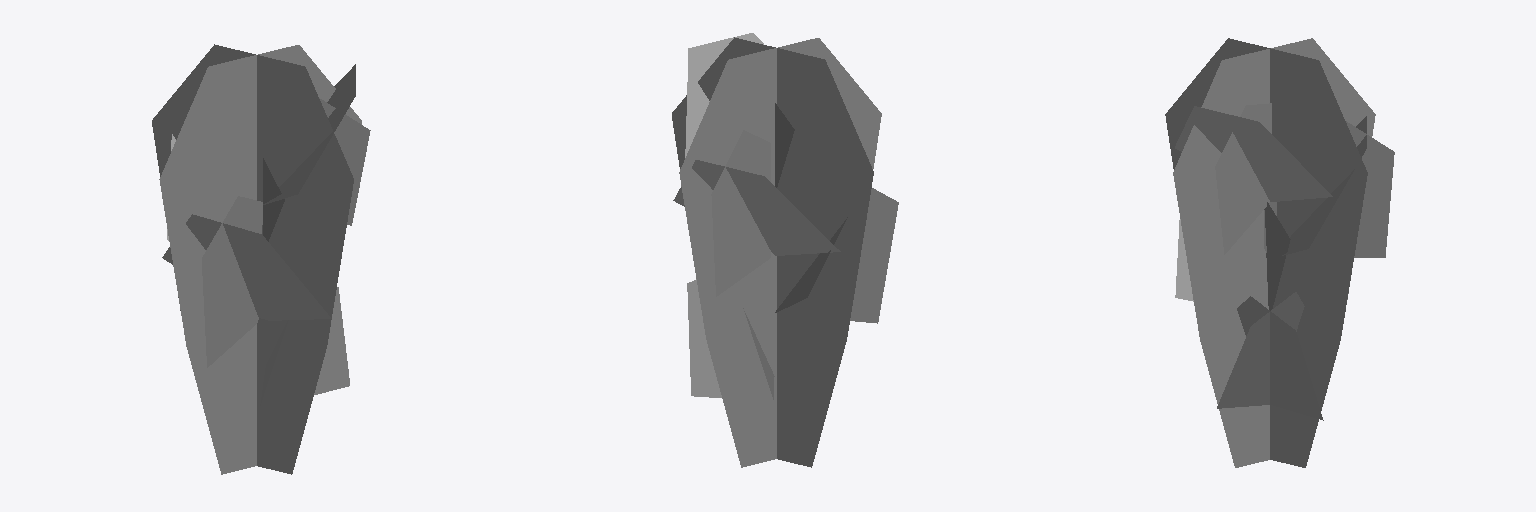
Rendered from tiny_weed_03_01.obj.
3 renders of one model, left to right at view 1: azimuth 30°, elevation 25°; view 2: azimuth 150°, elevation 25°; view 3: azimuth 270°, elevation 25°, orthographic.
Visible parts, largest first — view 1: tiny_weed_03_01.001; view 2: tiny_weed_03_01.001; view 3: tiny_weed_03_01.001.
Boxes of the visible parts, <box> form: tiny_weed_03_01.001: <box>152,44,370,474</box>; tiny_weed_03_01.001: <box>672,33,898,467</box>; tiny_weed_03_01.001: <box>1165,38,1394,467</box>.
Bounding box in the file's own units: 964 × 1869 × 945.